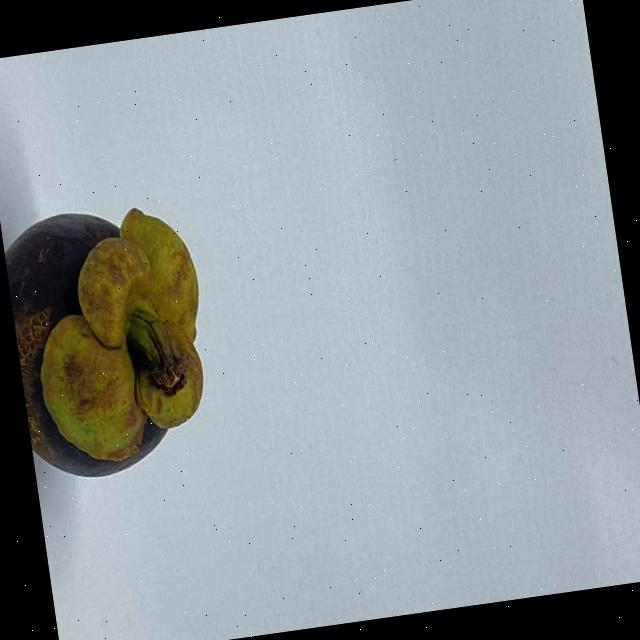mangosteen: (0, 177, 241, 510)
